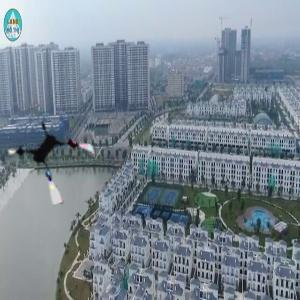drone: (5, 115, 100, 210)
